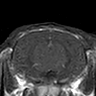Brain: (16, 32, 83, 79)
